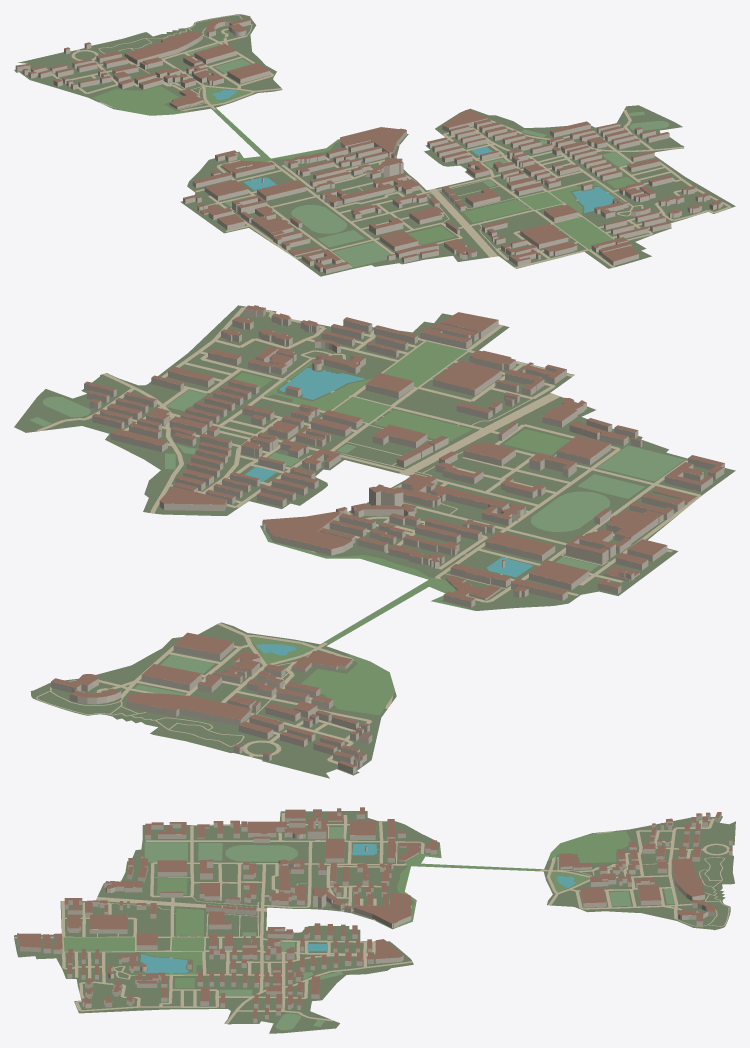
3 renders of one model, top to bottom at view 1: azimuth 30°, elevation 25°; view 2: azimuth 150°, elevation 25°; view 3: azimuth 270°, elevation 25°, orthographic. The views are drawn at different scales.
Visible parts, largest first — view 1: campus-ground, buildings, environment (×4), roofs; view 2: campus-ground, buildings, environment (×4), roofs; view 3: campus-ground, environment (×4), roofs, buildings.
Boxes of the visible parts, x1,y1,x2,y2 form: campus-ground: [14, 14, 735, 276]; buildings: [15, 20, 722, 273]; environment (×4): [28, 15, 731, 268]; roofs: [16, 18, 722, 269]; campus-ground: [14, 305, 735, 778]; buildings: [51, 306, 724, 774]; environment (×4): [29, 307, 701, 764]; roofs: [51, 305, 724, 767]; campus-ground: [14, 811, 735, 1033]; environment (×4): [14, 813, 729, 1030]; roofs: [17, 807, 732, 1018]; buildings: [17, 809, 732, 1023].
Bounding box in the file's own units: 1254 × 29.95 × 1718.
